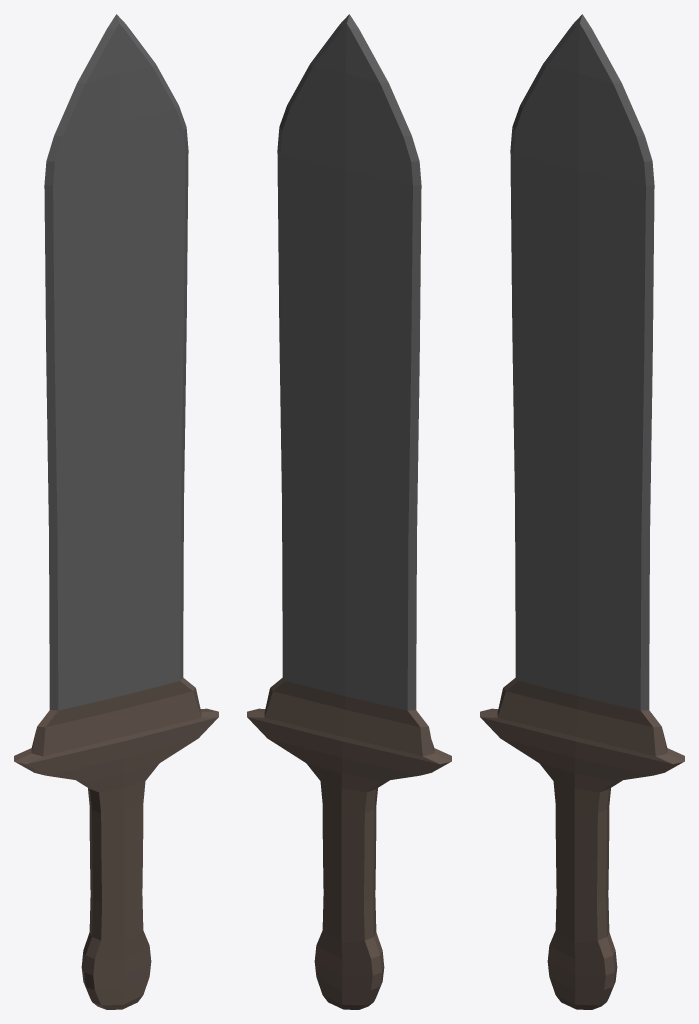
The model's file is Basic Sword.fbx.
The picture shows the model from 3 angles, left to right: view 1: azimuth 30°, elevation 25°; view 2: azimuth 150°, elevation 25°; view 3: azimuth 330°, elevation 25°; orthographic projection.
Parts seen in each view (by area): view 1: Cube; view 2: Cube; view 3: Cube.
Boxes of the visible parts, left/top/right/bottom form: Cube: left=14, top=14, right=218, bottom=1009; Cube: left=247, top=14, right=451, bottom=1009; Cube: left=480, top=14, right=684, bottom=1009.
Size of the model in its own units: 109 by 504 by 14.57.
